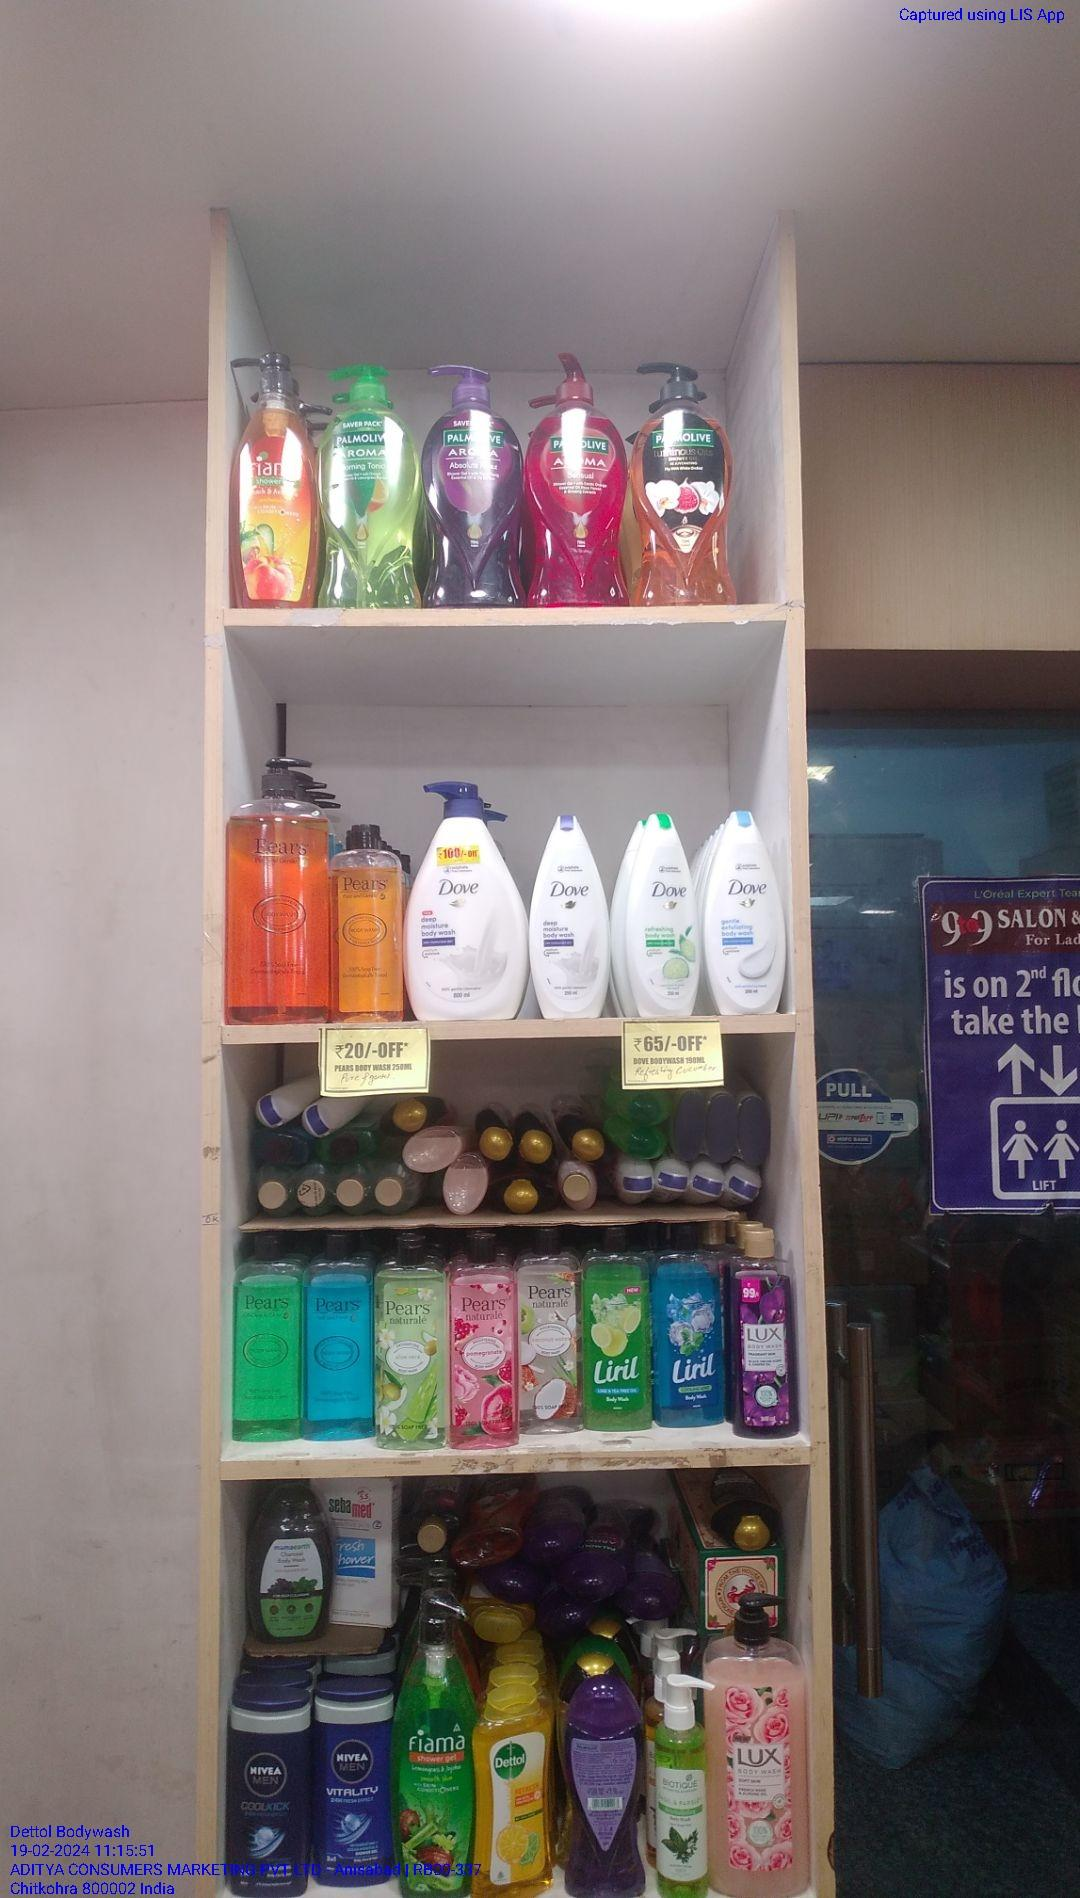Dove_Deep_Moisture_Body_Wash_250ML: (535, 810, 612, 1019)
Dove_Gentle_Exfoliating_Body_Wash_250ML: (706, 813, 788, 1012)
Dove_Refreshing_Body_Wash_250ML: (614, 812, 700, 1017)
Liril_Cooling_Mint_Body_Wash_250ML: (657, 1227, 727, 1426)
Liril_Lime_and_Tea_Tree_Oil_Body_Wash_250ML: (584, 1227, 652, 1429)
Lux_Black_Orchid_Scent_and_Juniper_Oil_Body_Wash_245ML: (725, 1234, 794, 1434)
Pears_Naturale_Aloe_Vera_Body_Wash_250ML: (380, 1232, 447, 1447)
Pears_Pure_Glycerin_and_Lemon_Flower_Extracts_Body_Wash_250ML: (230, 1227, 307, 1446)
Pears_Pure_Glycerin_and_Mint_Extracts_Body_Wash_250ML: (307, 1232, 377, 1442)
